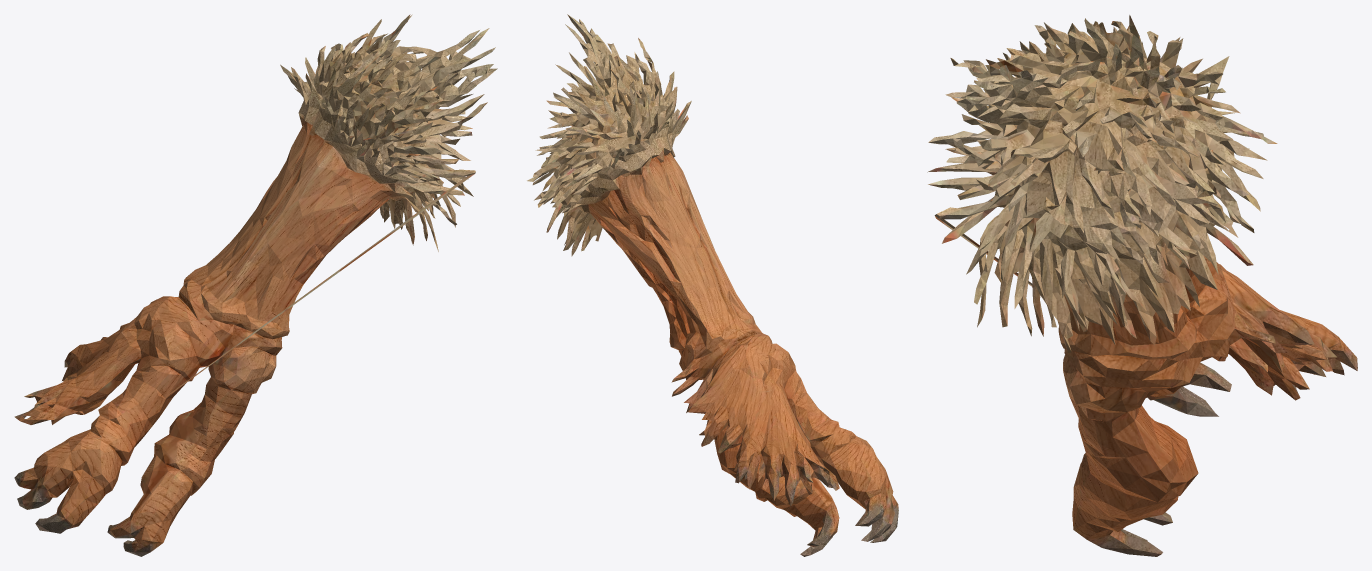
File: foot (24).glb
3 views of the same model, side by side, from view 1: azimuth 30°, elevation 25°; view 2: azimuth 150°, elevation 25°; view 3: azimuth 270°, elevation 25° (orthographic). The views are drawn at different scales.
Visible parts, largest first — view 1: Hy21_Mesh.obj; view 2: Hy21_Mesh.obj; view 3: Hy21_Mesh.obj.
Part boxes in pixels (x1,y1,x2,y2): Hy21_Mesh.obj: (14,14,497,556); Hy21_Mesh.obj: (527,14,898,556); Hy21_Mesh.obj: (927,15,1357,556).
Bounding box in the file's own units: 1.72 × 1.95 × 1.05.
Materials: 1 (1 with a texture image).
